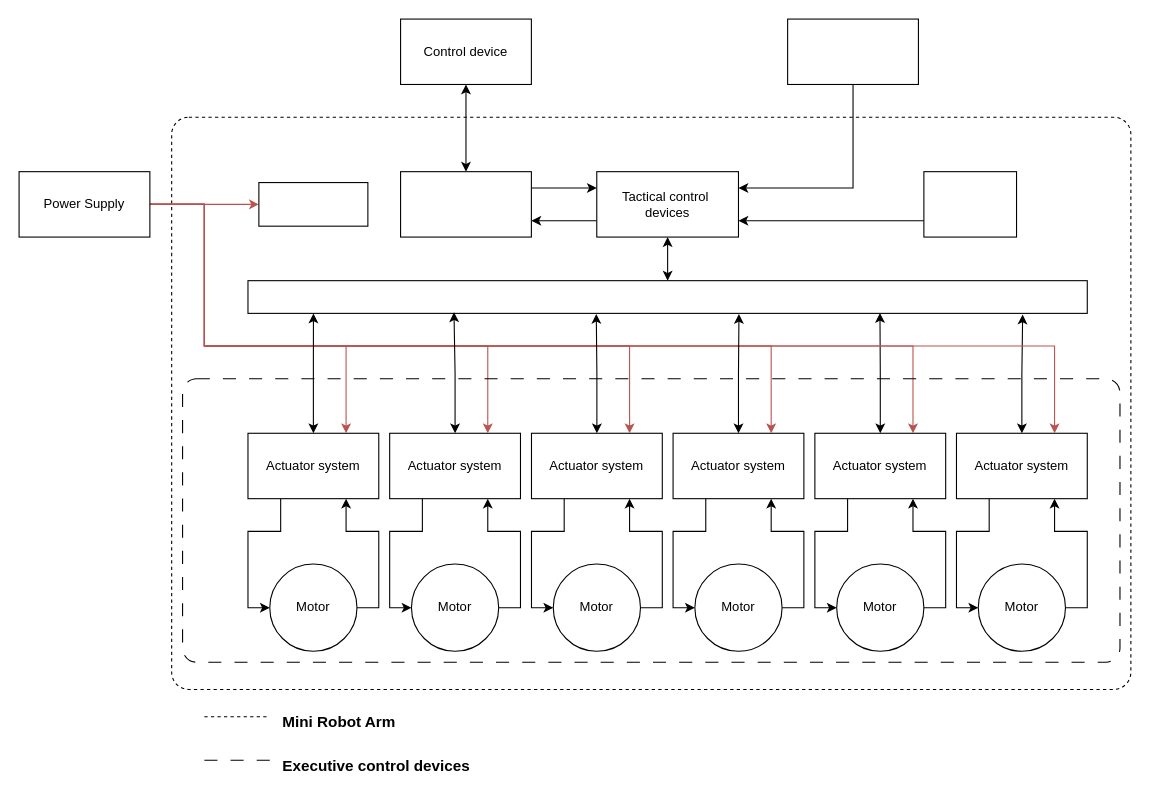
Image size: 1150x812. Some labels were removed from this diagram. The centre of each missing label's shape, as x and y in pixels:
"Bus protocol" goes at point 667,296.
"Emergency stop" goes at point 852,51.
"Indication panel" goes at point 970,204.
"Power converter" goes at point 313,203.
"Strategic control devices" goes at point 465,204.
